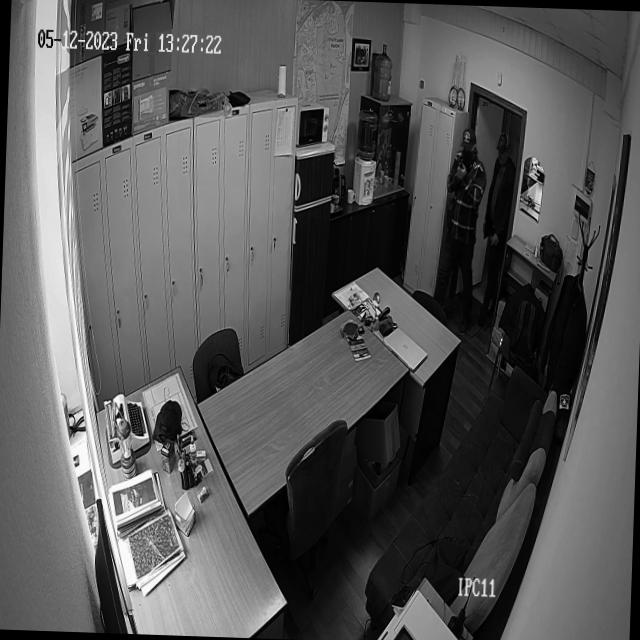gun: (456, 156, 468, 181)
person: (479, 131, 516, 325)
person with a gun: (434, 124, 489, 292)
